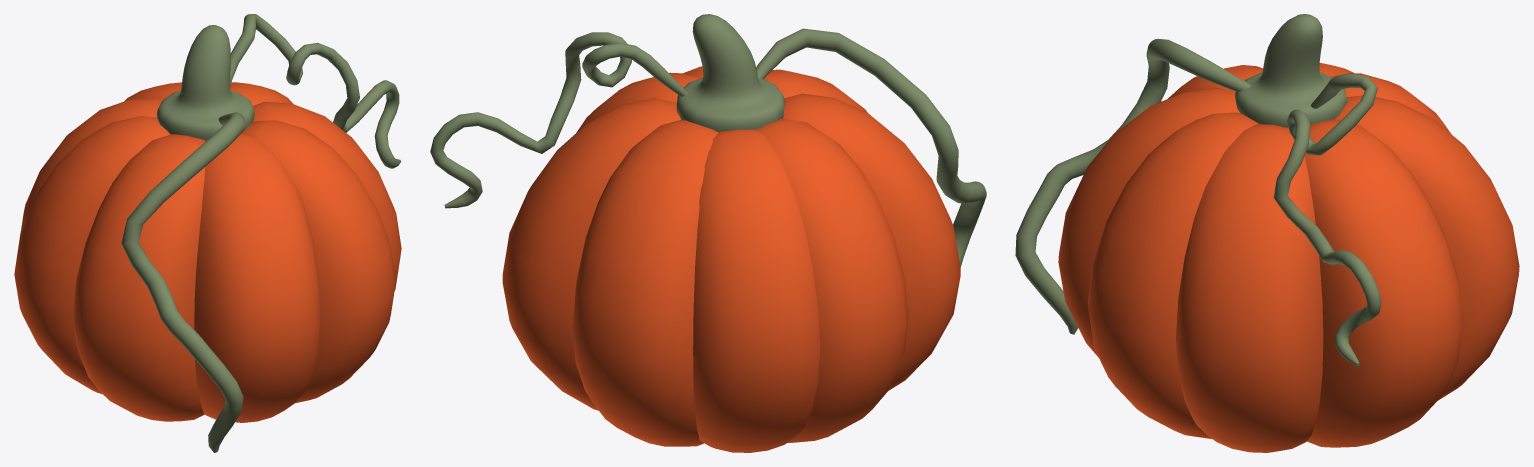
The model's file is market-pumpkin3.fbx.
3 views of the same model, side by side, from view 1: azimuth 30°, elevation 25°; view 2: azimuth 150°, elevation 25°; view 3: azimuth 270°, elevation 25° (orthographic). The views are drawn at different scales.
Visible parts, largest first — view 1: Cube.139; view 2: Cube.139; view 3: Cube.139.
Boxes of the visible parts, <box> form: Cube.139: <box>14,14,401,452</box>; Cube.139: <box>430,14,986,452</box>; Cube.139: <box>1015,14,1519,452</box>.
Size of the model in its own units: 139 by 119 by 135.
